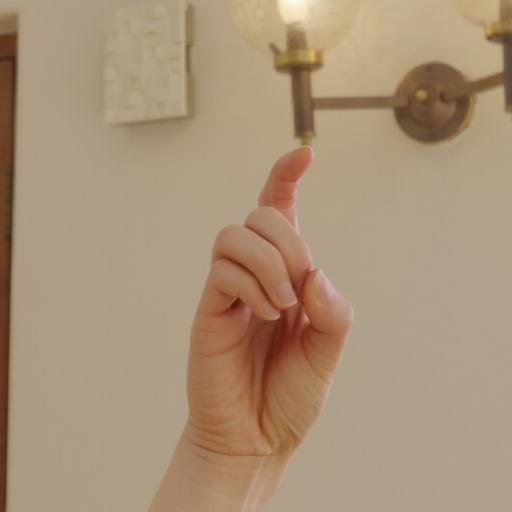X: (181, 143, 359, 476)
